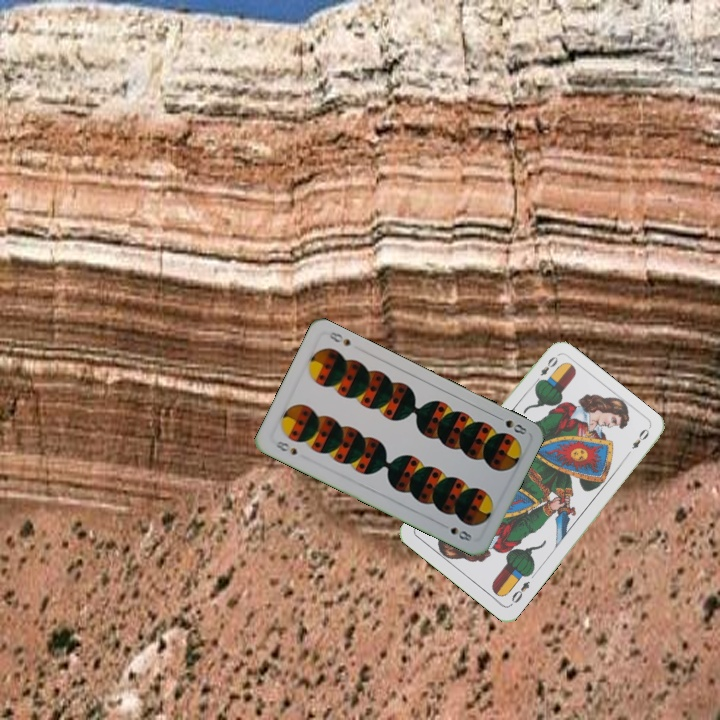EO: (530, 352, 561, 387), (506, 577, 532, 608)
S8: (492, 412, 529, 437), (271, 437, 300, 458)
